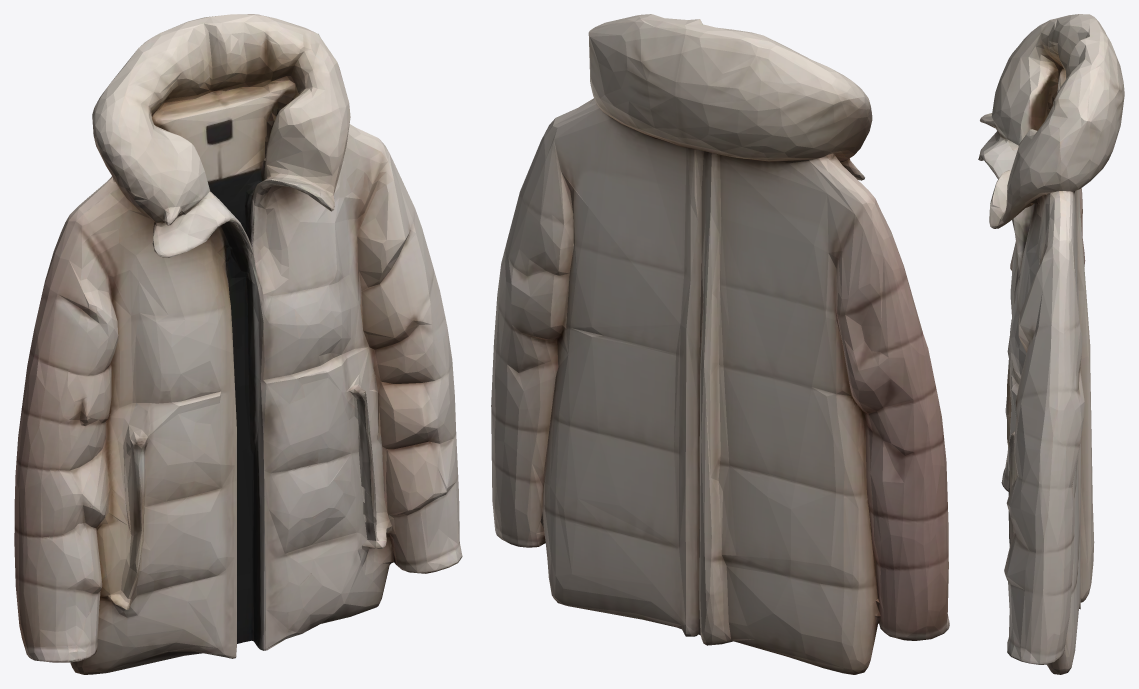
3 views of the same model, side by side, from view 1: azimuth 30°, elevation 25°; view 2: azimuth 150°, elevation 25°; view 3: azimuth 270°, elevation 25° (orthographic). The views are drawn at different scales.
Visible parts, largest first — view 1: geometry_0; view 2: geometry_0; view 3: geometry_0.
Part boxes in pixels (<box>): geometry_0: <box>14,14,462,674</box>; geometry_0: <box>491,14,949,674</box>; geometry_0: <box>978,14,1124,674</box>.
Bounding box in the file's own units: 0.7536 × 0.9989 × 0.2335.
Materials: 1 (1 with a texture image).
